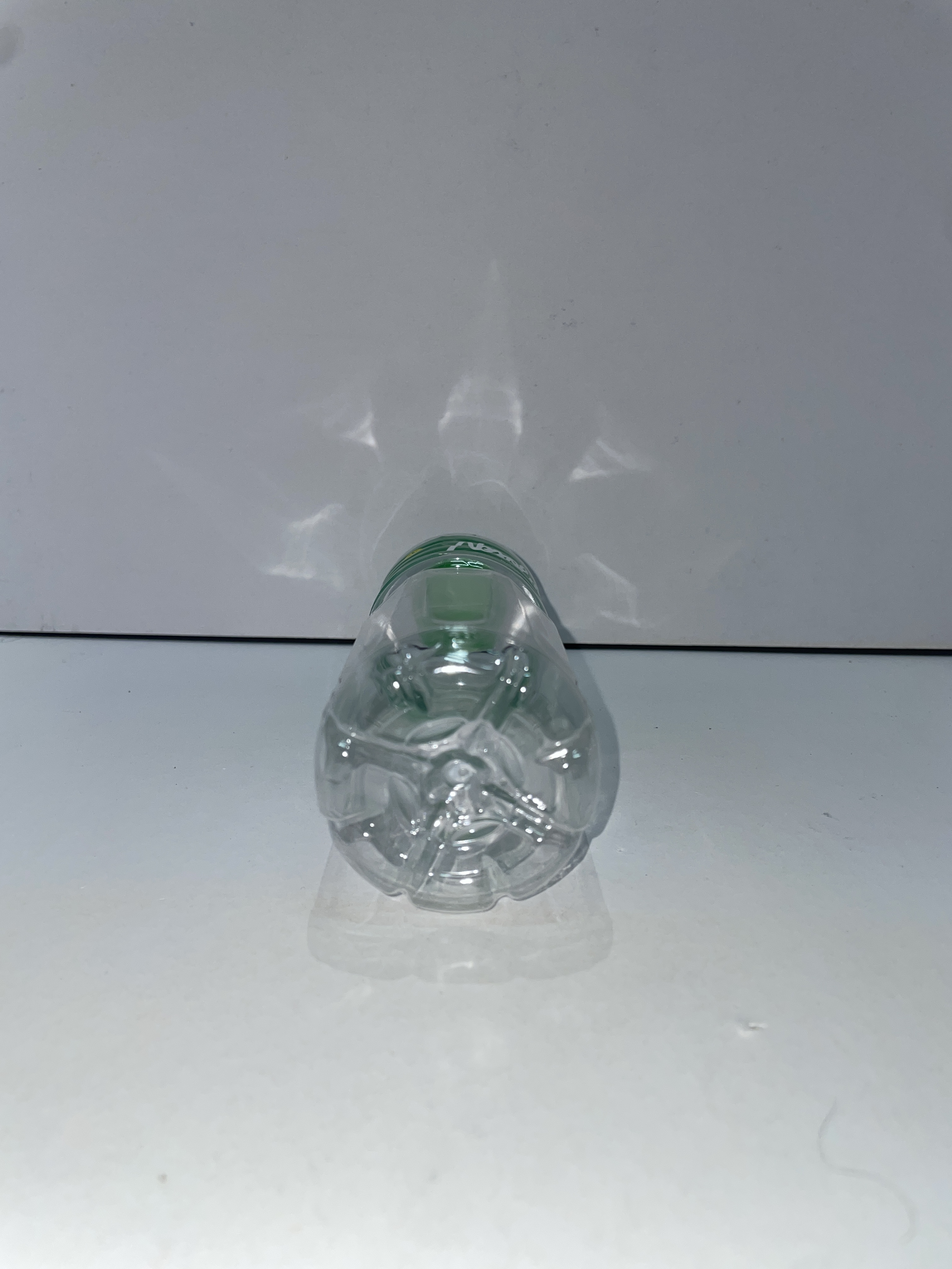Absolute 350ml: (316, 534, 600, 913)
